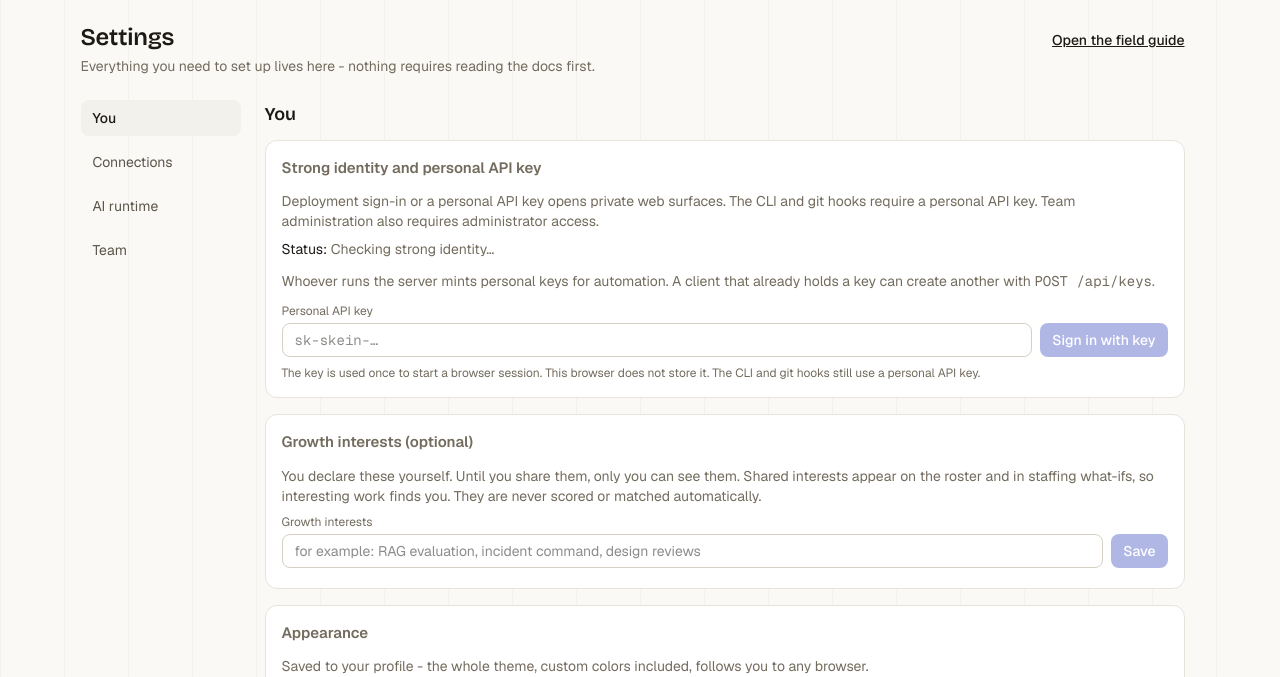
Test: the reasoning section › offers the levels of the team model and saves one
Click the link "AI runtime" at (125, 206), box [92,197,158,215]
(page scrolled)
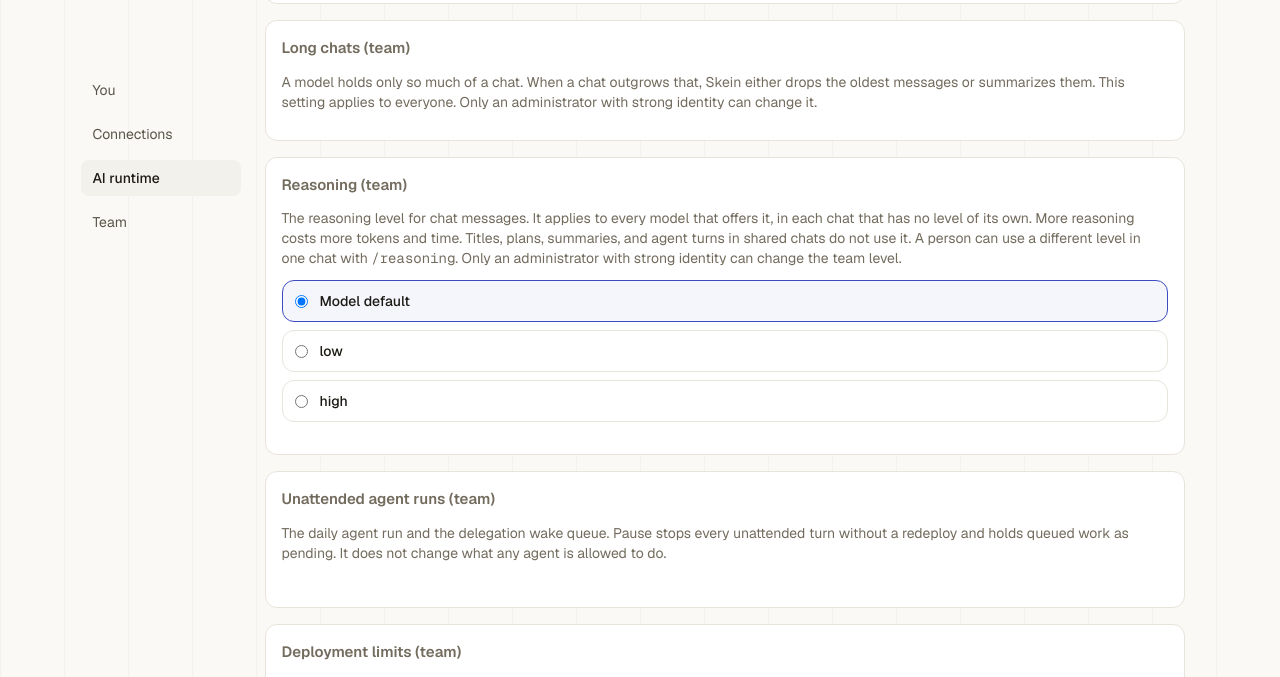
Check: the radio button labelled "Model default" is checked, box [294,295,308,308]
Check: the radio button labelled "low" is shown, box [294,345,308,358]
Check: the element named "Team reasoning level" is shown, box [282,280,1168,422]
Click the radio button labelled "high" at (301, 401), box [294,395,308,408]
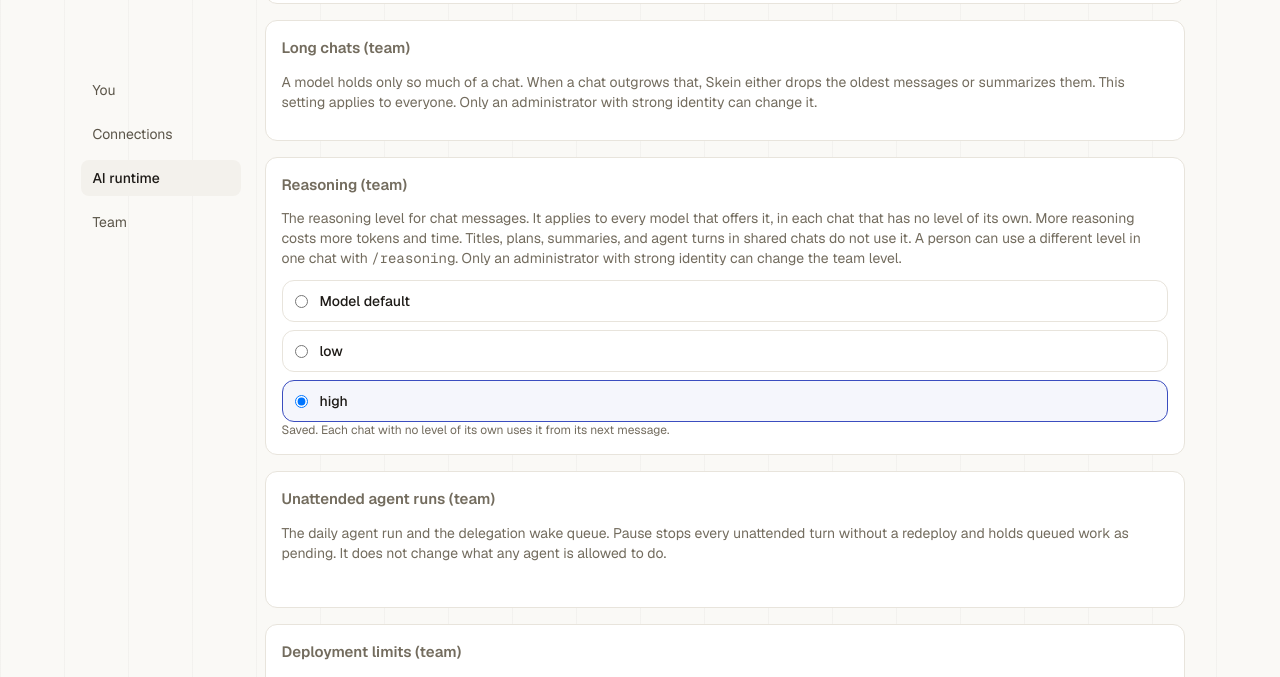
Check: the radio button labelled "high" is checked, box [294,395,308,408]
Check: the text "Saved. Each chat with no level of its own uses it from its next message." is shown, box [282,422,669,438]
